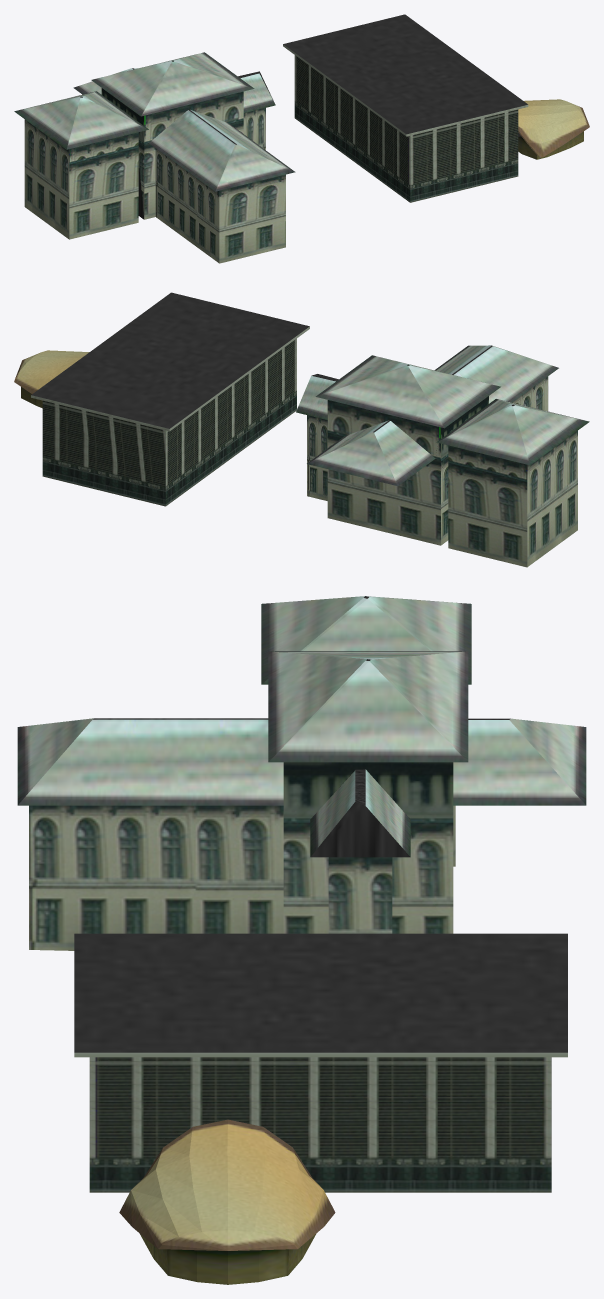
Rendered from Scaife.gltf.
3 views of the same model, one above another, from view 1: azimuth 30°, elevation 25°; view 2: azimuth 150°, elevation 25°; view 3: azimuth 270°, elevation 25° (orthographic). The views are drawn at different scales.
Parts seen in each view (by area): view 1: Box16, Box02; view 2: Box16, Box02; view 3: Box02, Box16.
Part boxes in pixels (x1,y1,x2,y2): Box16: (14, 52, 295, 263); Box02: (283, 14, 589, 202); Box16: (296, 345, 589, 567); Box02: (14, 292, 309, 506); Box02: (74, 933, 567, 1284); Box16: (17, 596, 586, 950).
Size of the model in its own units: 211 by 52.38 by 102.
2 materials, 2 textured.
